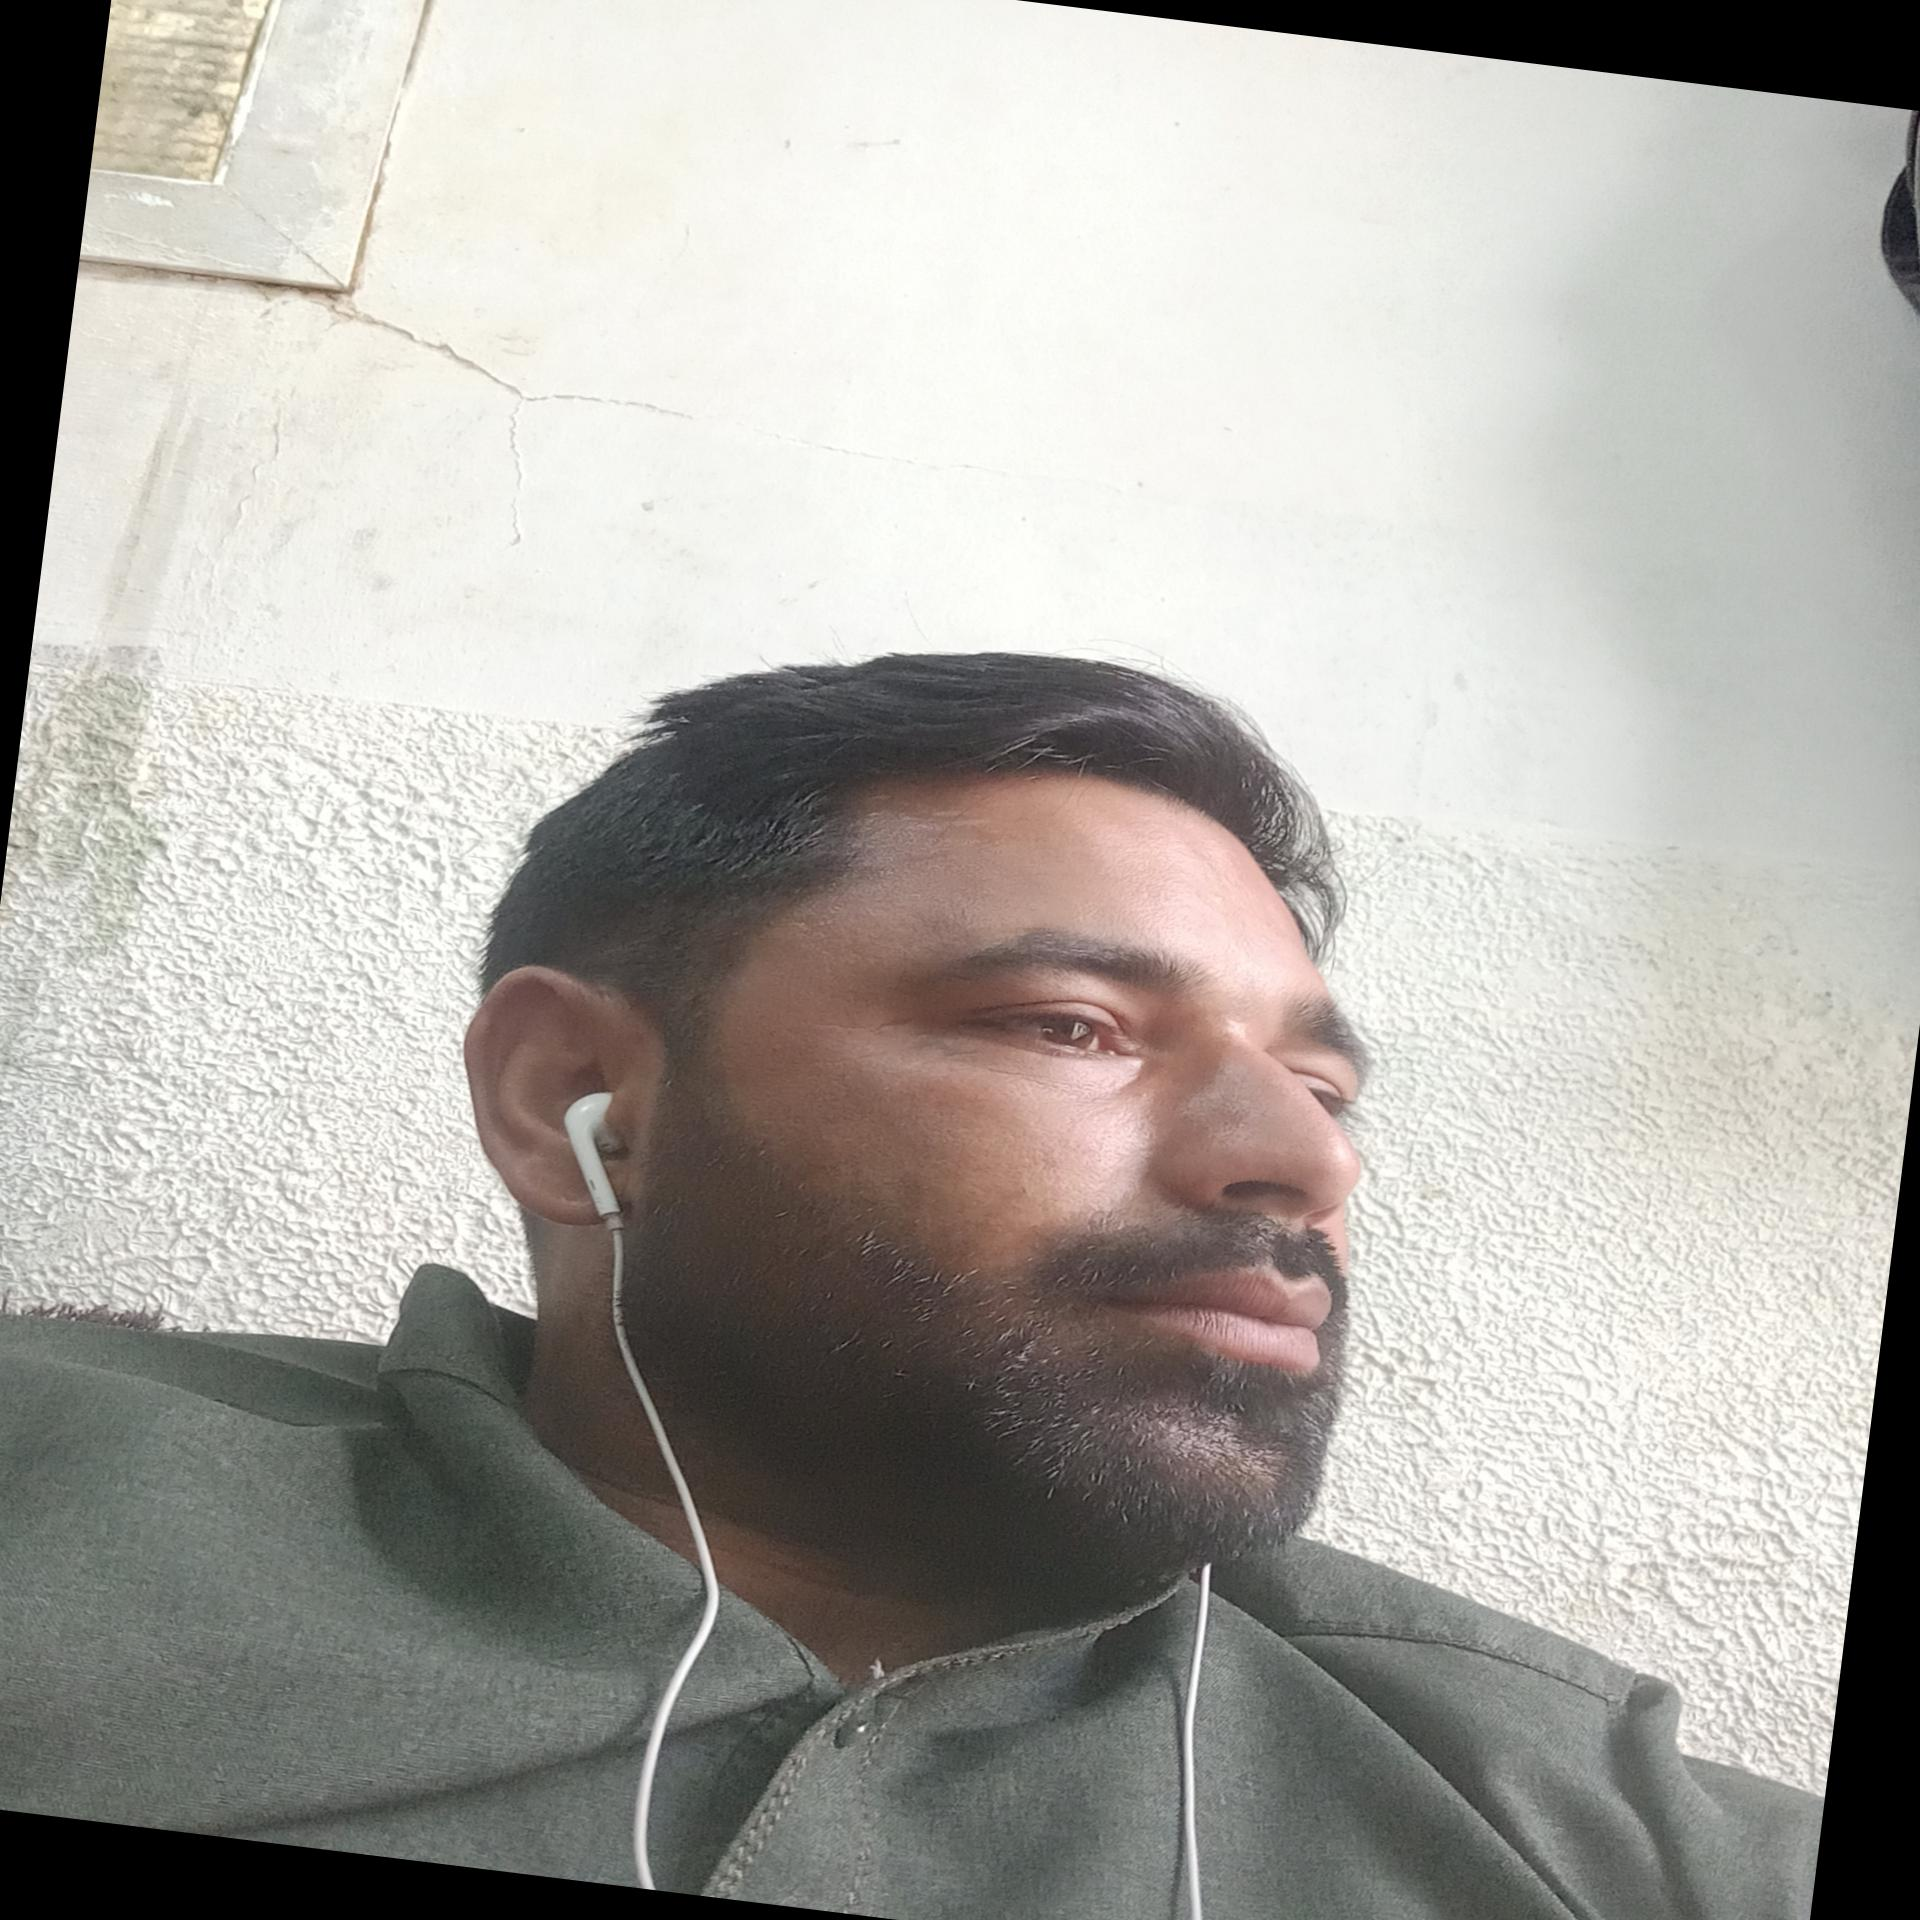Englarged Pores: (969, 1108, 1129, 1194), (1190, 1074, 1254, 1152)
Wrinkles: (791, 1000, 913, 1037), (798, 1043, 890, 1073), (930, 1043, 978, 1060)
